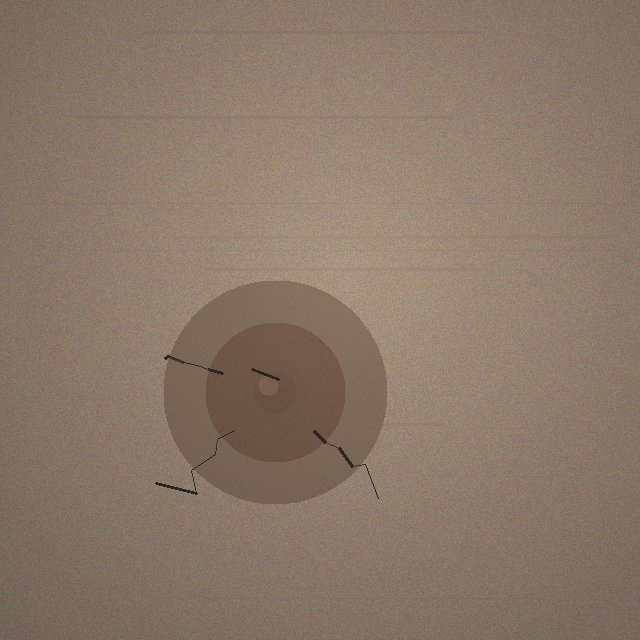crack: (163, 280, 387, 504)
